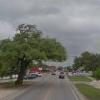Tree: (6, 17, 76, 72)
